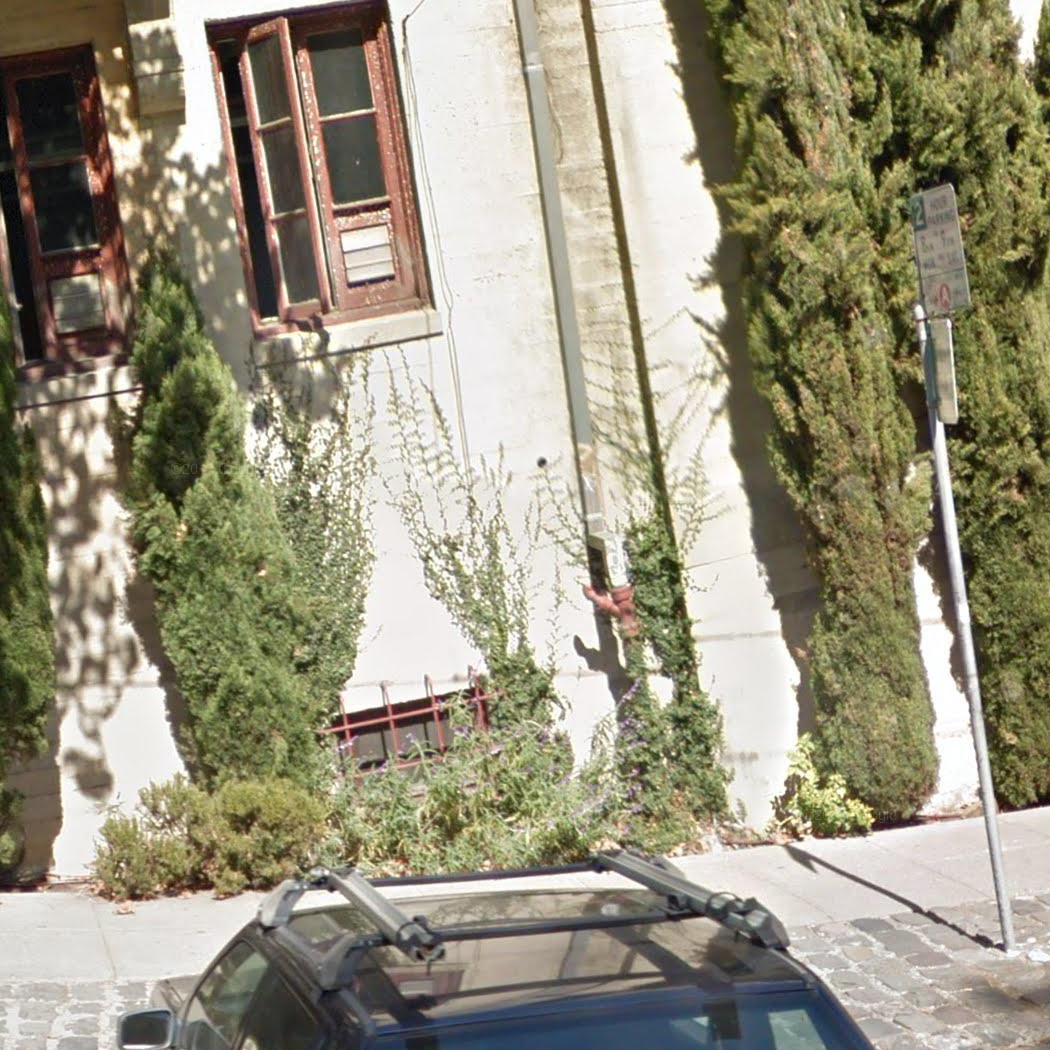2 Hour Parking: (906, 182, 973, 319)
